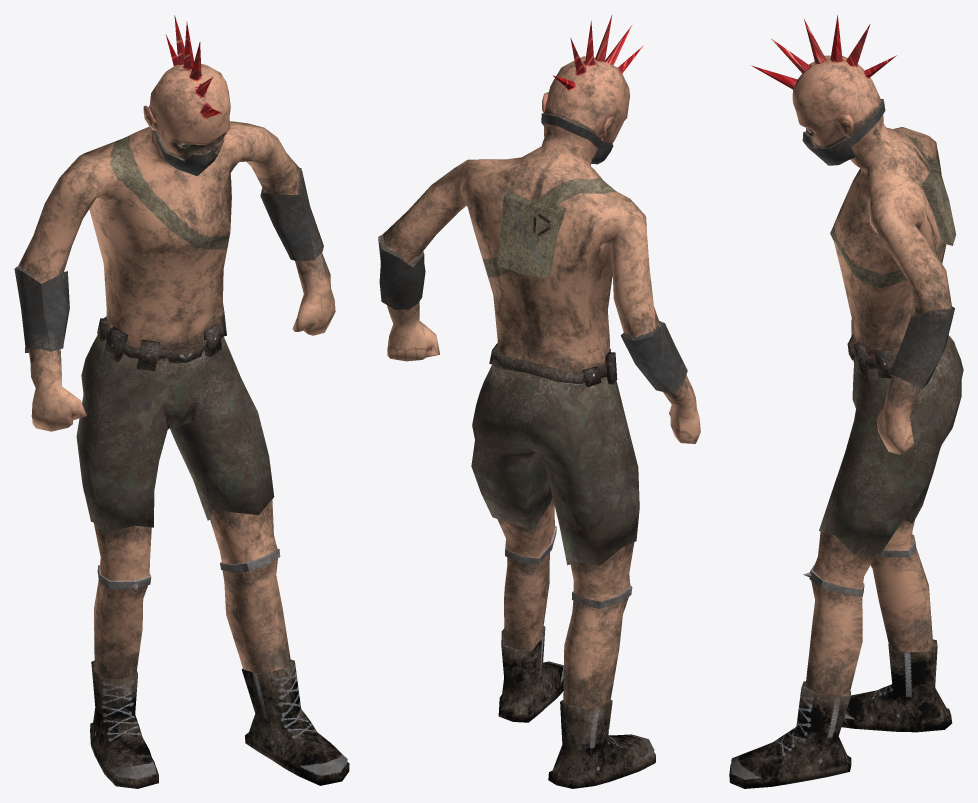
The model's file is Anim_cogerobjeto_npc2.0020.obj.
3 views of the same model, side by side, from view 1: azimuth 30°, elevation 25°; view 2: azimuth 150°, elevation 25°; view 3: azimuth 270°, elevation 25° (orthographic). The views are drawn at different scales.
Parts seen in each view (by area): view 1: polySurface1; view 2: polySurface1; view 3: polySurface1.
Boxes of the visible parts, bbox=[...] form: polySurface1: bbox=[14, 15, 349, 788]; polySurface1: bbox=[378, 15, 700, 788]; polySurface1: bbox=[729, 15, 963, 788].
Size of the model in its own units: 4.35 by 9.97 by 2.91.
2 materials, 2 textured.
